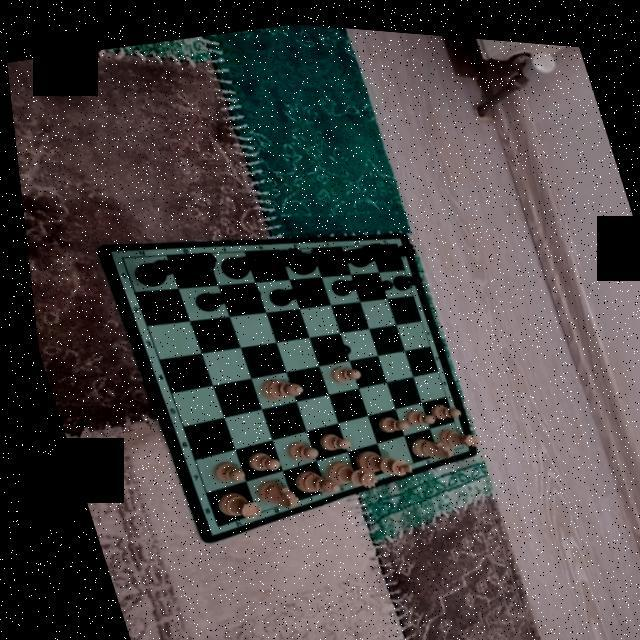chess-table-corners: (197, 515, 213, 530), (109, 248, 125, 262), (384, 228, 398, 242), (446, 432, 458, 444)
